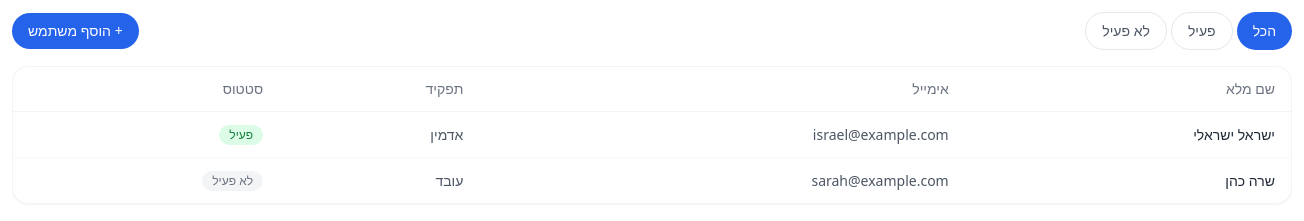
Test case: status filter › "פעיל" filter shows only active rows
Check: the text "ישראל ישראלי" is shown, box [965,112,1291,158]
Click the button "פעיל". click: (1202, 31)
box: [1171,12,1233,50]
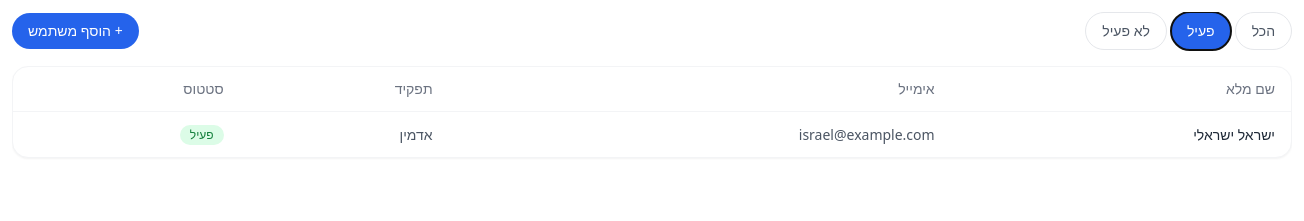
Check: the text "ישראל ישראלי" is shown, box [951,112,1291,157]
Check: the text "שרה כהן" is gone
